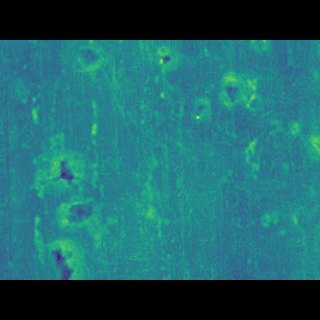Loch: (19, 124, 114, 251), (217, 94, 265, 128), (74, 74, 104, 94), (189, 112, 213, 136), (150, 74, 179, 91), (248, 69, 270, 82)
